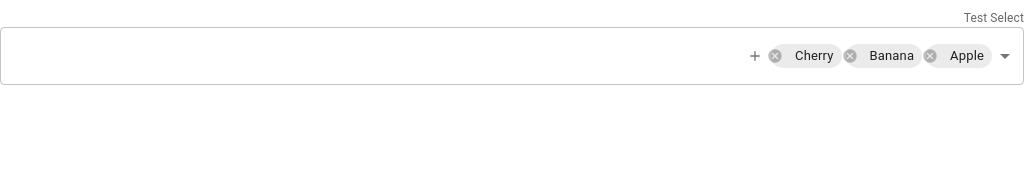
Test: IpsChipSelect › chip overflow › should list the hidden values in the overflow tooltip
Hover over the button named "+2" at (755, 56), box [743,44,767,68]
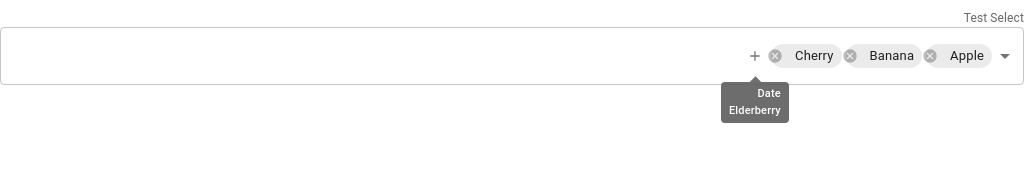
Check: the tooltip shows "Date", box [729,87,781,116]
Check: the tooltip shows "Elderberry", box [729,87,781,116]
